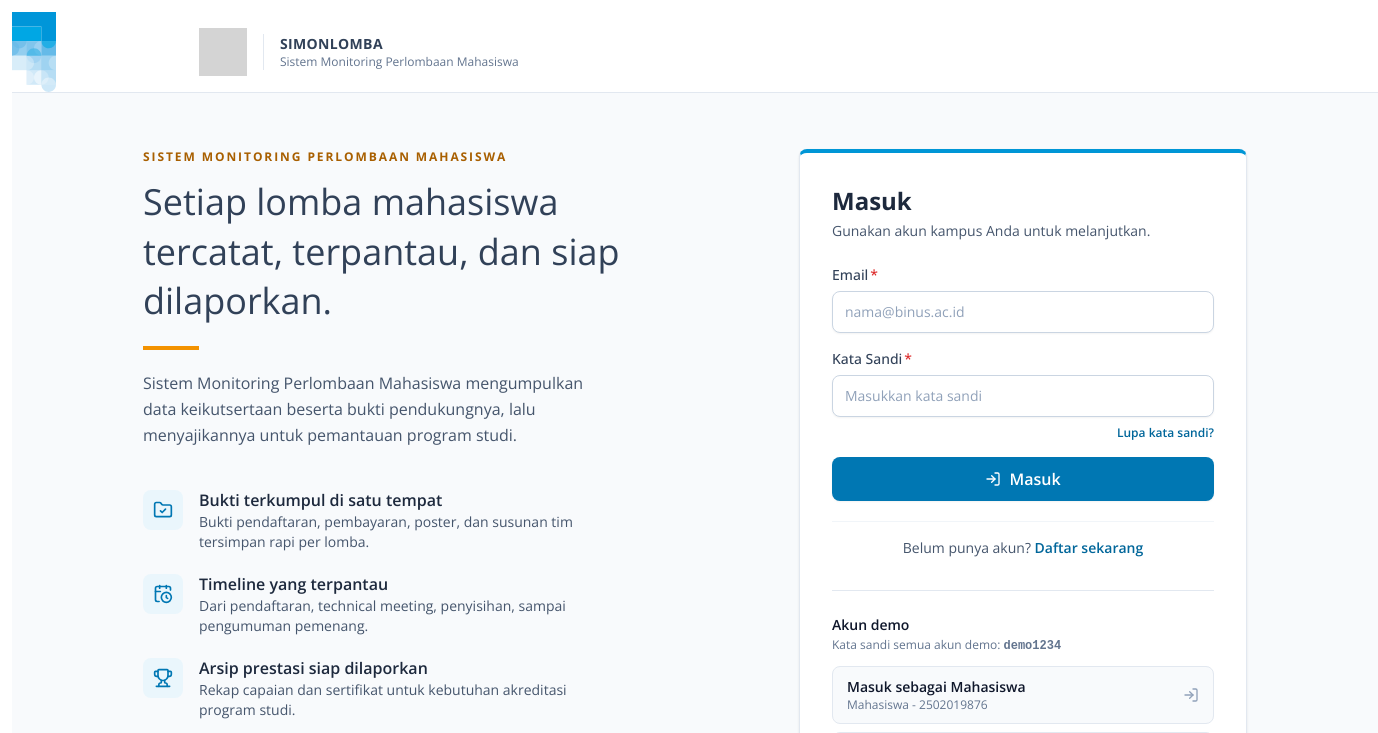
it: Fitur Lupa Kata Sandi dan Reset Sandi UI › dapat diakses dari tautan halaman login
The image size is (1378, 733).
Click the link "Lupa kata sandi?".
click(1165, 433)  # box [1117,425,1214,441]
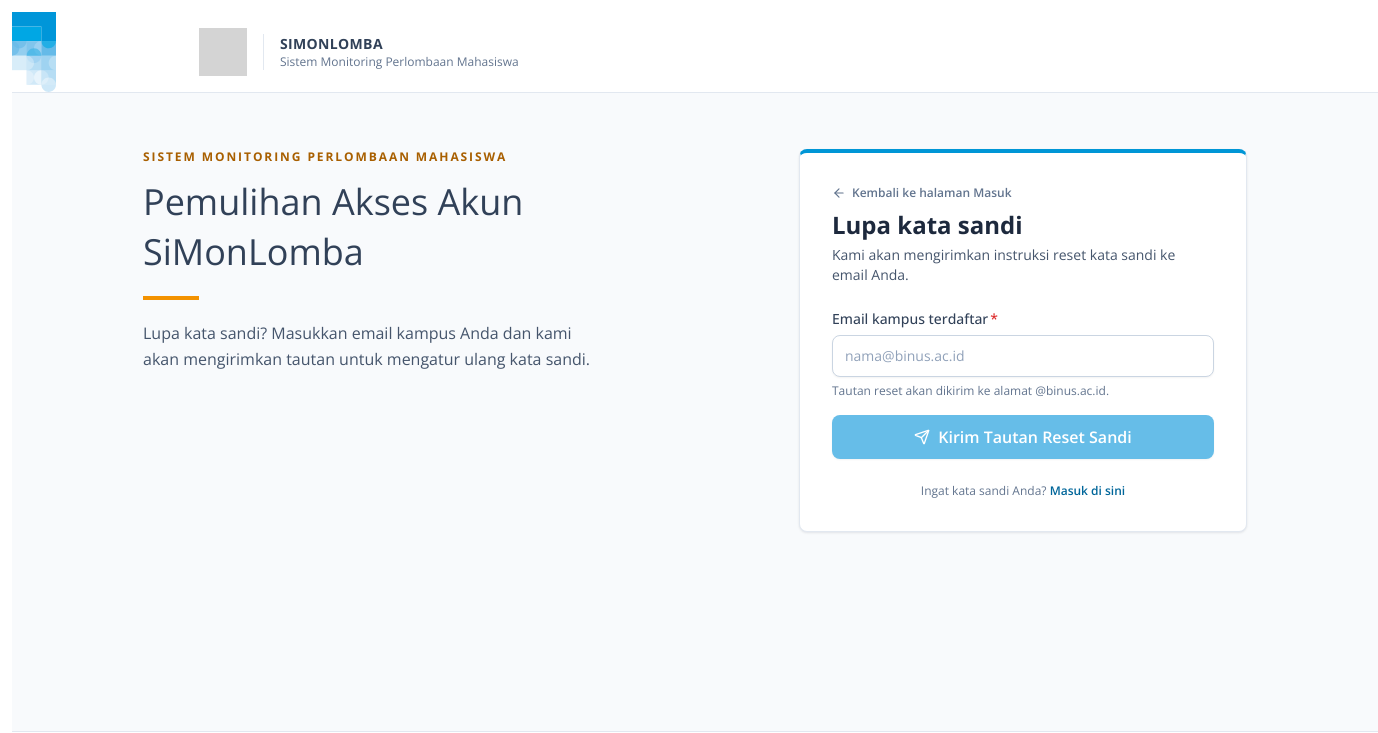
Expected: the heading "Lupa kata sandi" is shown, [832,208,1022,241]
